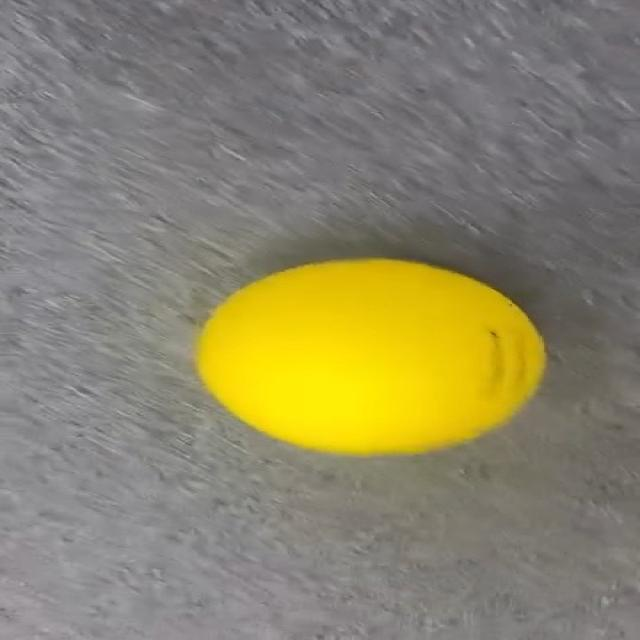Fuels: (197, 259, 542, 453)
